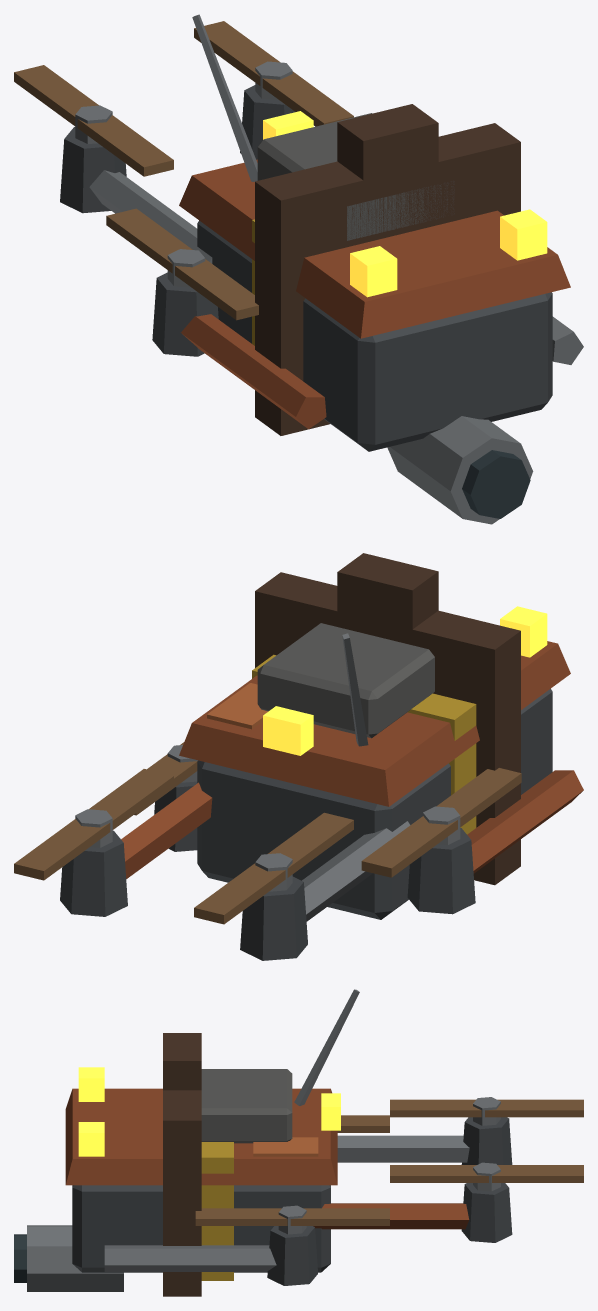
Rendered from item_scout_drone.glb.
3 views of the same model, one above another, from view 1: azimuth 30°, elevation 25°; view 2: azimuth 150°, elevation 25°; view 3: azimuth 270°, elevation 25° (orthographic). The views are drawn at different scales.
Parts seen in each view (by area): view 1: item_scout_drone_mesh; view 2: item_scout_drone_mesh; view 3: item_scout_drone_mesh.
Part boxes in pixels (x1,y1,x2,y2): item_scout_drone_mesh: (14, 14, 583, 524); item_scout_drone_mesh: (14, 553, 583, 960); item_scout_drone_mesh: (14, 989, 583, 1296).
Bounding box in the file's own units: 0.4156 × 0.4672 × 0.8807.
